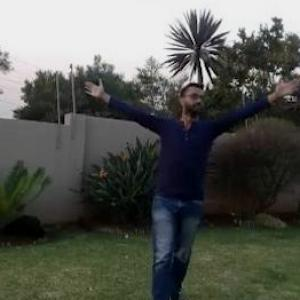takeoff: (57, 45, 299, 299)
